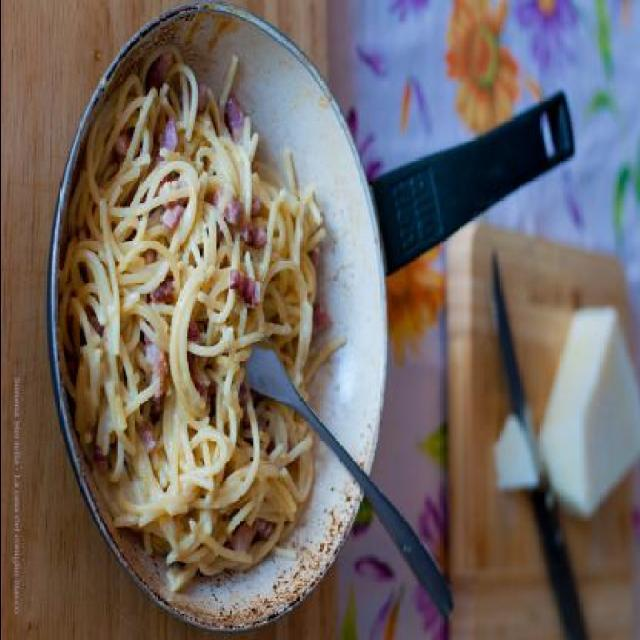Pasta with carbonara sauce: (0, 26, 411, 640)
